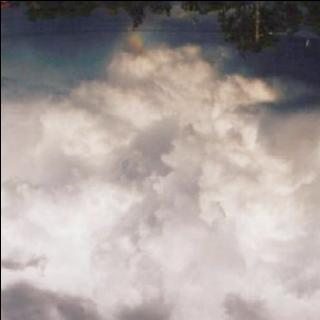Cumulonimbus: (0, 33, 320, 320)
